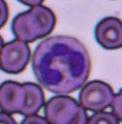N: (32, 35, 90, 94)
